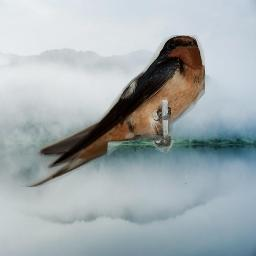Swallow: (18, 35, 205, 187)
